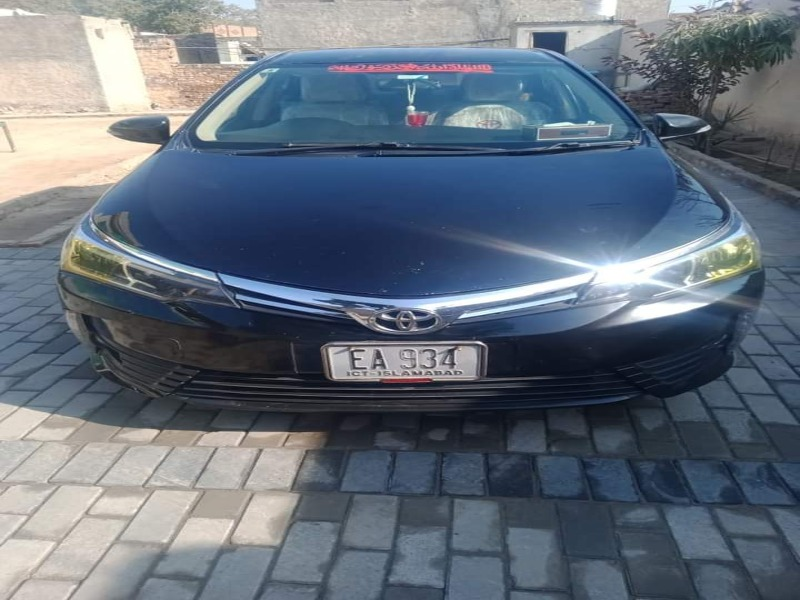License Plate: (316, 335, 494, 393)
